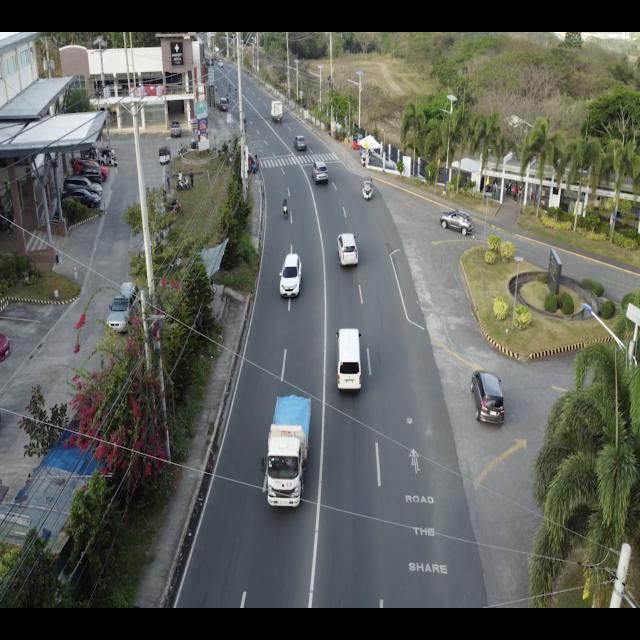car: (469, 367, 506, 428), (106, 280, 140, 340), (335, 327, 364, 395), (278, 251, 302, 300), (439, 207, 474, 239), (72, 156, 110, 184), (62, 188, 102, 212), (63, 174, 104, 197), (336, 232, 359, 268), (68, 166, 102, 187), (310, 159, 330, 186), (170, 118, 182, 137), (293, 135, 307, 151), (219, 97, 229, 112)
motorcycle: (363, 176, 373, 202), (280, 197, 290, 220)
person: (189, 168, 195, 189), (167, 170, 171, 190), (178, 169, 182, 183)
truck: (258, 392, 315, 510), (269, 100, 284, 124)
